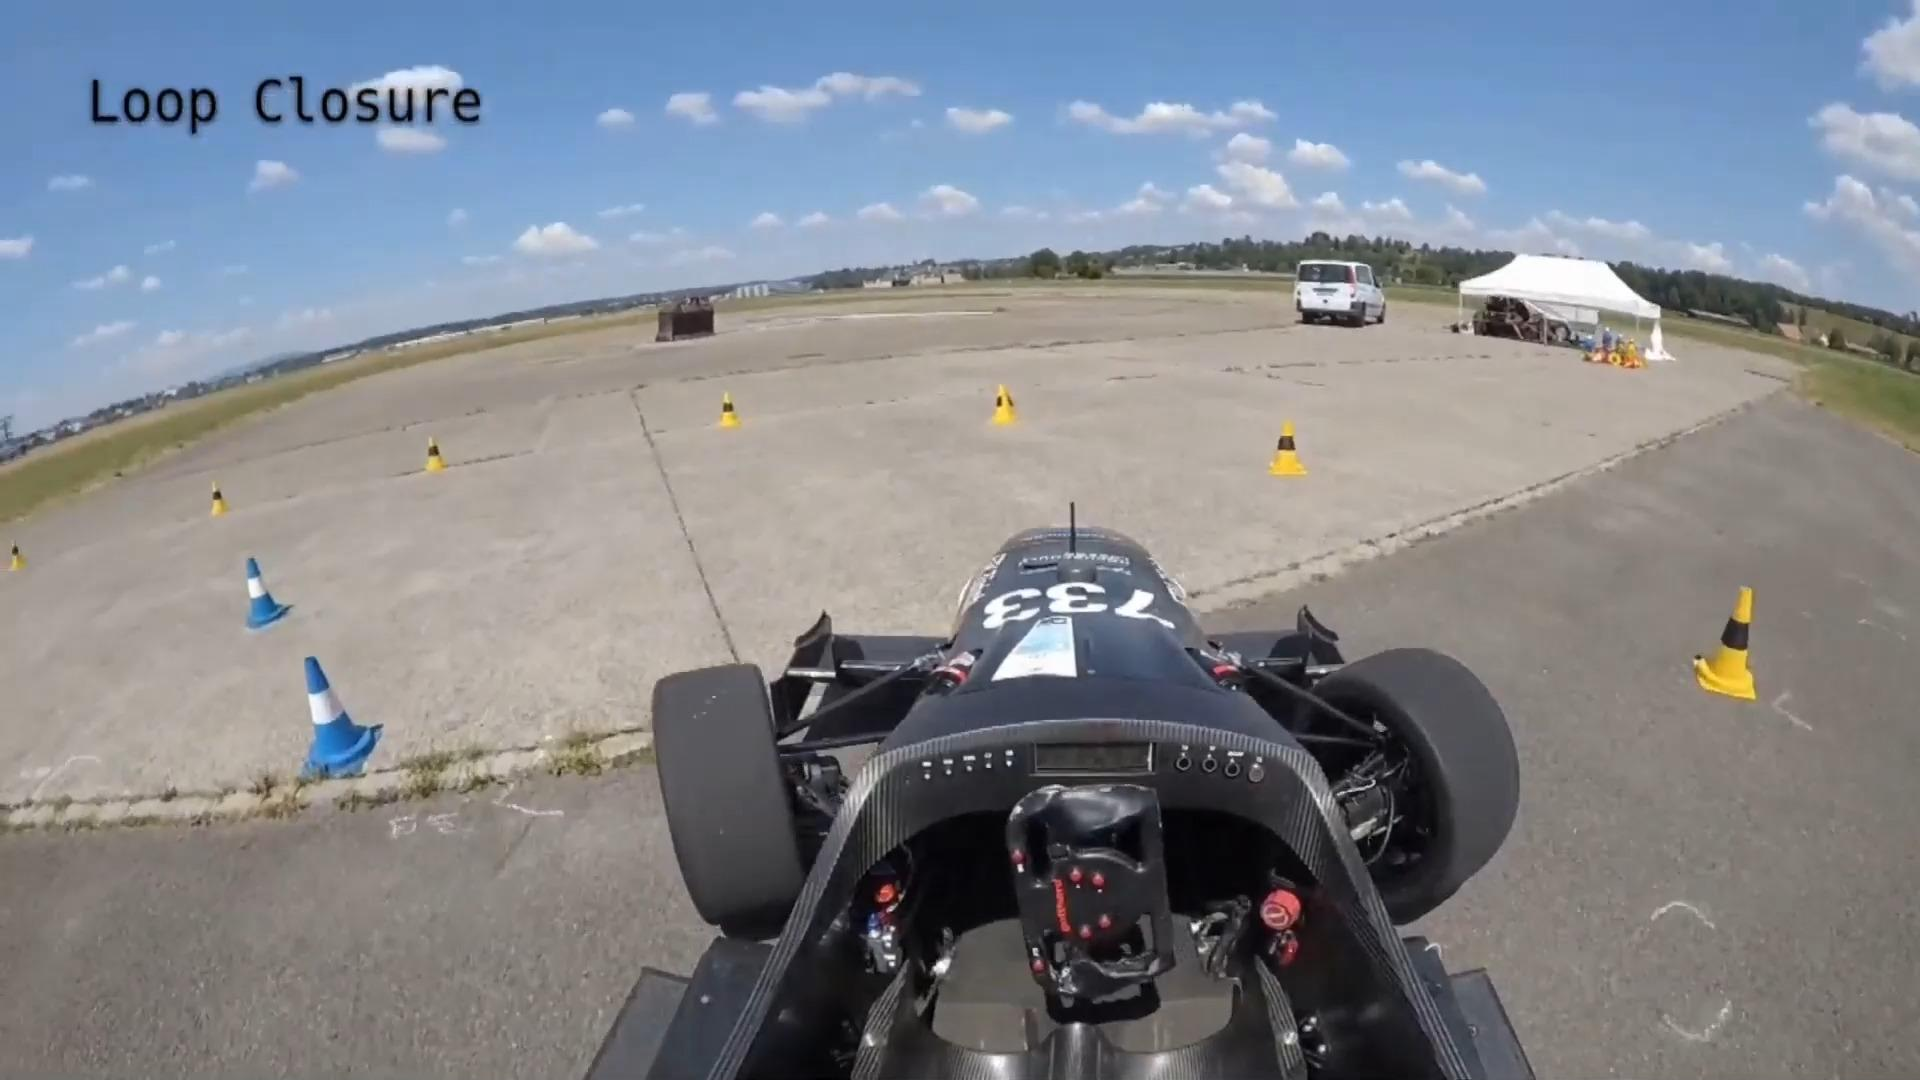blue_cone: (302, 655, 382, 782), (245, 558, 289, 630)
yellow_cone: (1695, 585, 1760, 700), (1267, 418, 1311, 476), (990, 384, 1018, 427), (717, 388, 738, 431), (426, 435, 447, 472)
